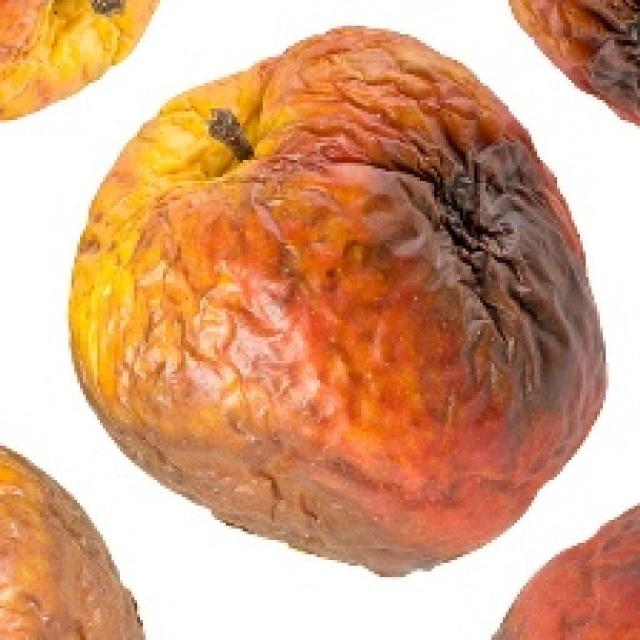rotten_apple: (75, 30, 603, 571)
